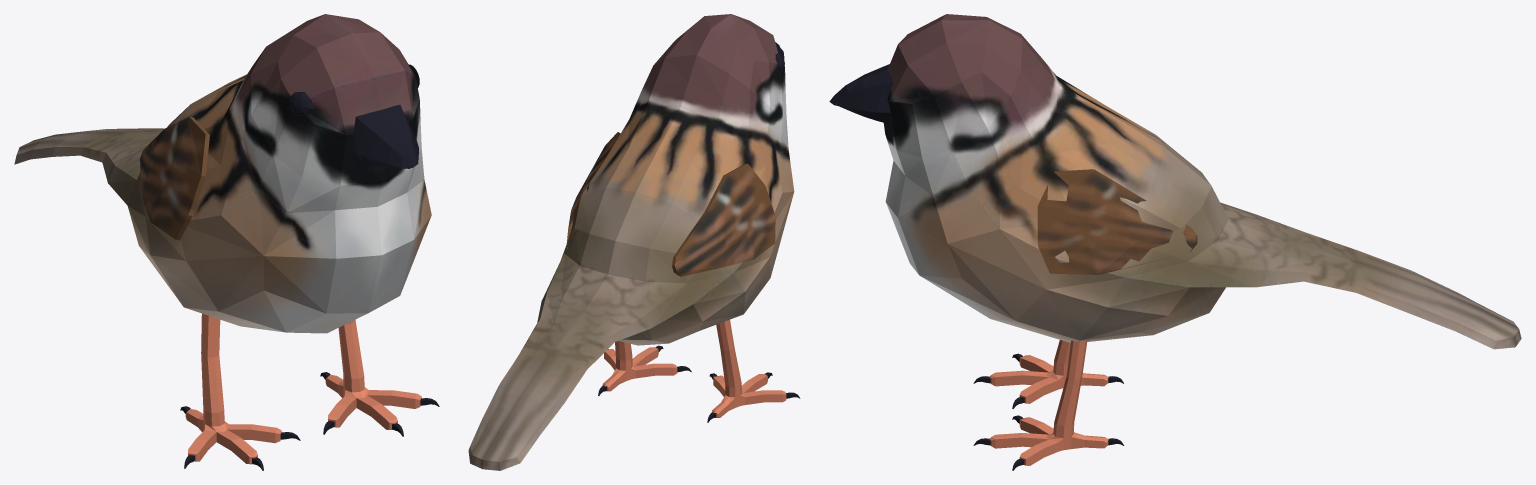
Rendered from eVTHotZ9Bc_.glb.
3 views of the same model, side by side, from view 1: azimuth 30°, elevation 25°; view 2: azimuth 150°, elevation 25°; view 3: azimuth 270°, elevation 25° (orthographic). The views are drawn at different scales.
Visible parts, largest first — view 1: Node; view 2: Node; view 3: Node.
Boxes of the visible parts, left/top/right/bottom form: Node: left=14, top=14, right=439, bottom=470; Node: left=468, top=14, right=800, bottom=470; Node: left=829, top=14, right=1521, bottom=470.
Size of the model in its own units: 0.6159 by 1 by 1.59.
Materials: 4 (2 with a texture image).
